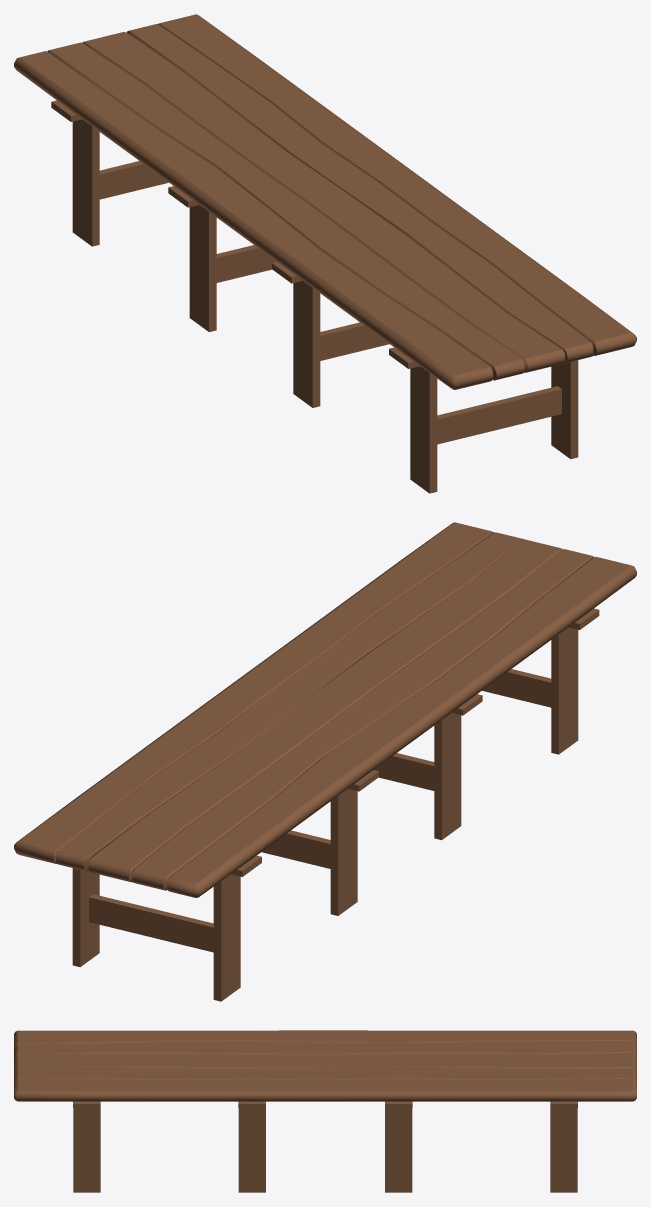
The model's file is SE_093_wooden_table_var2.glb.
3 views of the same model, one above another, from view 1: azimuth 30°, elevation 25°; view 2: azimuth 150°, elevation 25°; view 3: azimuth 270°, elevation 25° (orthographic). The views are drawn at different scales.
Visible parts, largest first — view 1: table, legs, support_bottom, support_top; view 2: table, legs, support_bottom, support_top; view 3: table, legs, support_top.
Part boxes in pixels (x1=…): table: x1=14, y1=14, x2=636, y2=389; legs: x1=72, y1=119, x2=578, y2=493; support_bottom: x1=99, y1=161, x2=561, y2=444; support_top: x1=51, y1=100, x2=419, y2=368; table: x1=14, y1=522, x2=636, y2=897; legs: x1=72, y1=627, x2=578, y2=1001; support_bottom: x1=89, y1=669, x2=551, y2=952; support_top: x1=231, y1=608, x2=599, y2=876; table: x1=14, y1=1030, x2=636, y2=1101; legs: x1=73, y1=1108, x2=577, y2=1192; support_top: x1=73, y1=1101, x2=577, y2=1108.
Size of the model in its own units: 1.5 by 1.13 by 5.99.
